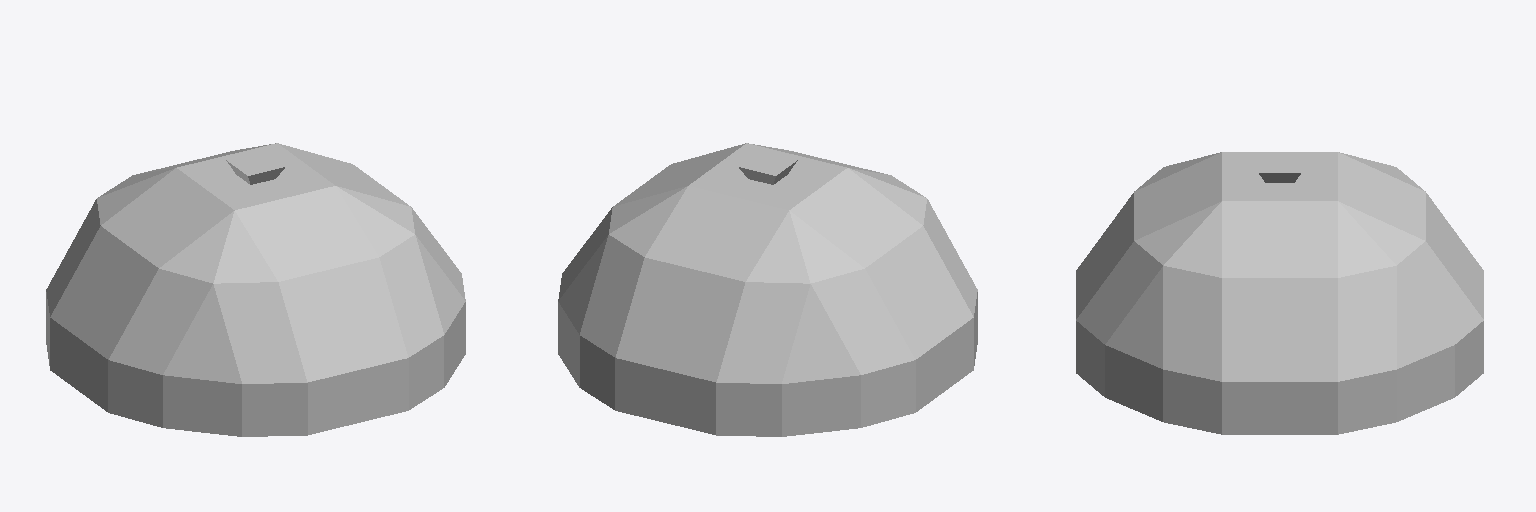
The model's file is light.obj.obj.
3 views of the same model, side by side, from view 1: azimuth 30°, elevation 25°; view 2: azimuth 150°, elevation 25°; view 3: azimuth 270°, elevation 25° (orthographic).
Parts seen in each view (by area): view 1: default; view 2: default; view 3: default.
Boxes of the visible parts, <box> form: default: <box>46,143,465,436</box>; default: <box>558,143,977,436</box>; default: <box>1076,152,1483,434</box>.
Bounding box in the file's own units: 0.875 × 0.4375 × 0.875.